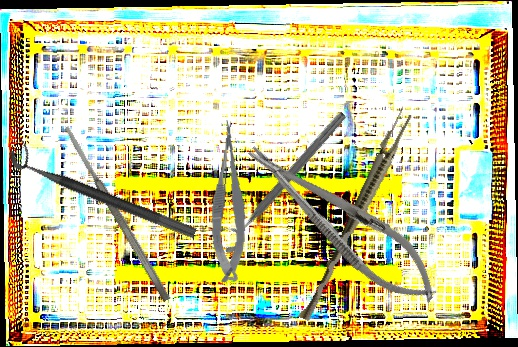Fixation Ring: (209, 100, 352, 258), (5, 137, 204, 240)
Micro Scissor: (205, 119, 256, 284)
Needle Holder: (234, 126, 452, 319)
Spatula Surgical: (62, 124, 172, 303)
Tissue Forceps: (297, 107, 415, 326)
